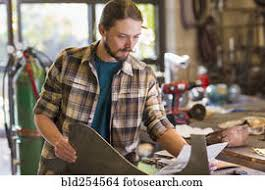white_male: (98, 17, 139, 66)
